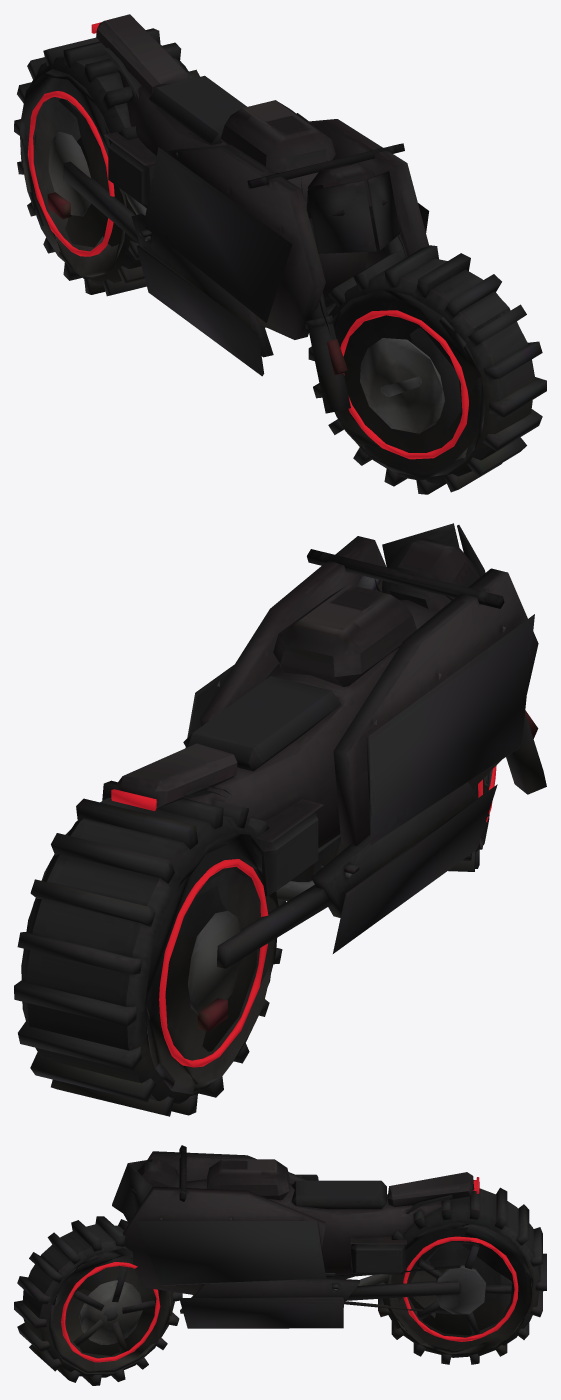
The model's file is CRB1_batcycle_stealth_lod1.glb.
3 renders of one model, top to bottom at view 1: azimuth 30°, elevation 25°; view 2: azimuth 150°, elevation 25°; view 3: azimuth 270°, elevation 25°, orthographic. The views are drawn at different scales.
Visible parts, largest first — view 1: CRB1_batcycle_stealth_LOD1; view 2: CRB1_batcycle_stealth_LOD1; view 3: CRB1_batcycle_stealth_LOD1.
Boxes of the visible parts, x1,y1,x2,y2 form: CRB1_batcycle_stealth_LOD1: (14,14,546,494); CRB1_batcycle_stealth_LOD1: (14,523,546,1116); CRB1_batcycle_stealth_LOD1: (14,1145,546,1385).
Bounding box in the file's own units: 0.8584 × 1.25 × 3.06.
2 materials, 2 textured.
